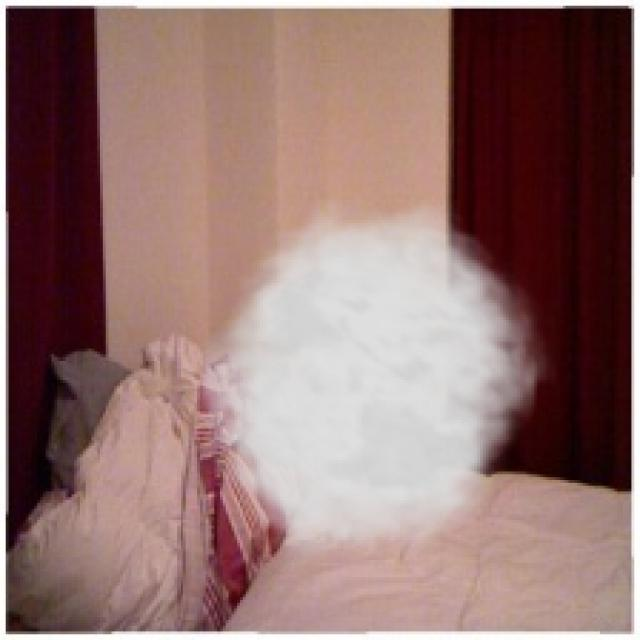smoke: (186, 197, 557, 572)
